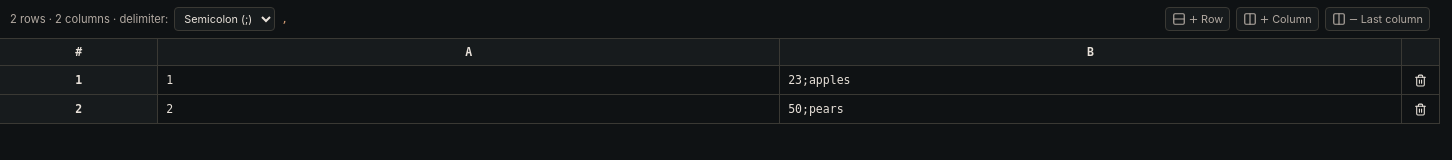
Test case: CsvTableEditor › lets the user correct an ambiguous delimiter before editing
Select "Semicolon (;)" in the dropdown named "CSV delimiter": point(225, 19) [174,7,275,31]
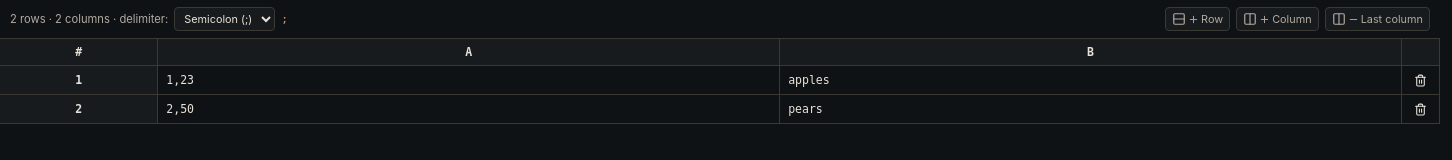
Result: the field named "Row 1, column A" holds "1,23" at [158,67,779,93]
Result: the field named "Row 1, column B" holds "apples" at [780,67,1401,93]
